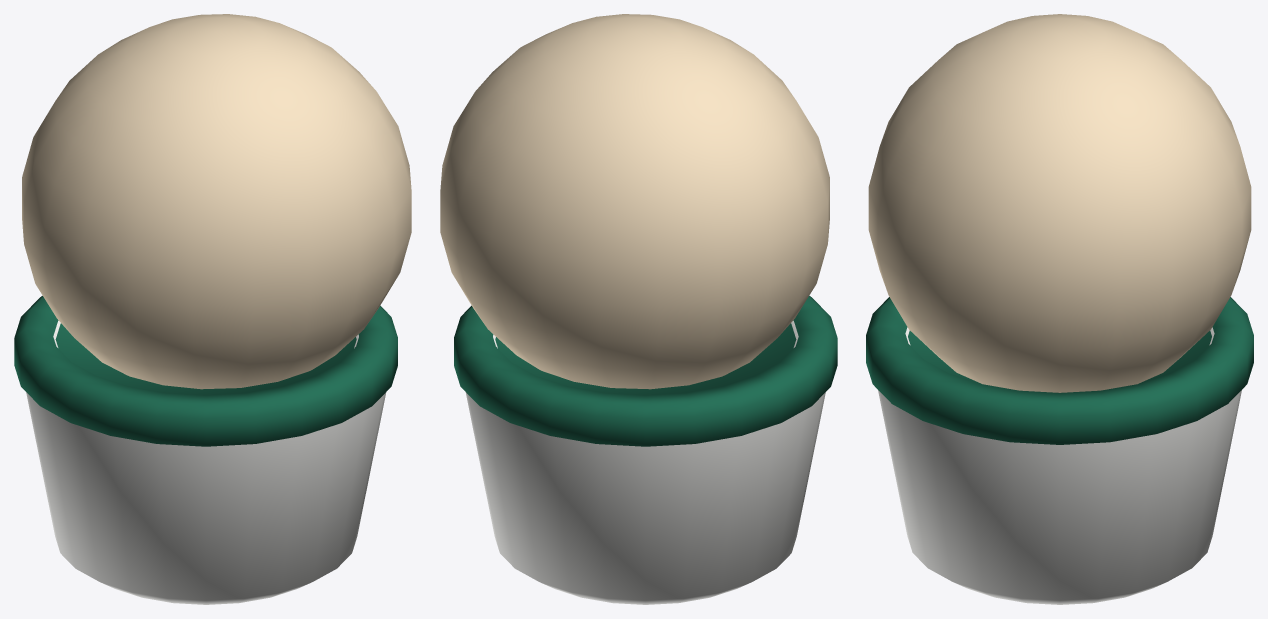
The model's file is ice-cream.glb.
3 renders of one model, left to right at view 1: azimuth 30°, elevation 25°; view 2: azimuth 150°, elevation 25°; view 3: azimuth 270°, elevation 25°, orthographic.
Parts seen in each view (by area): view 1: ice-cream; view 2: ice-cream; view 3: ice-cream.
Part boxes in pixels (x1,y1,x2,y2): ice-cream: (14, 14, 411, 604); ice-cream: (440, 14, 837, 604); ice-cream: (866, 14, 1253, 604).
Size of the model in its own units: 0.3946 by 0.558 by 0.376.
